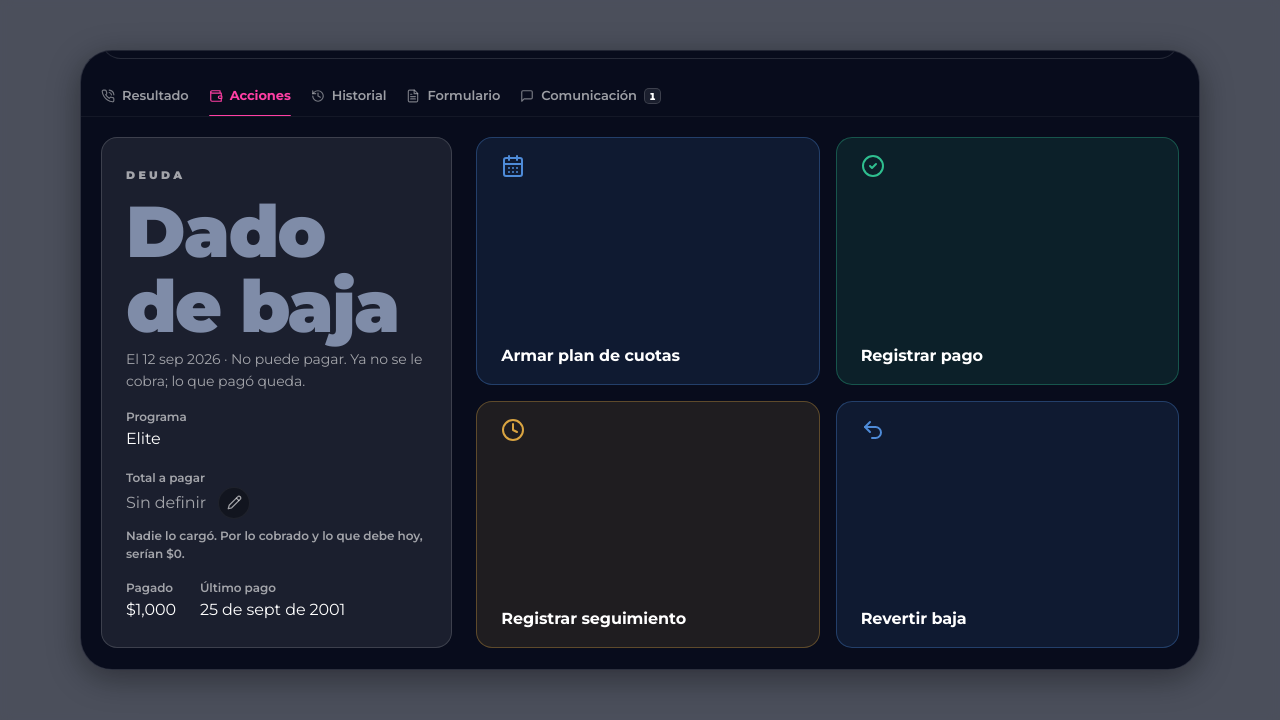
Test case: revertir la baja desde Acciones › pega en su ruta y avisa que vuelve a deber
This screenshot has width=1280, height=720.
(page scrolled)
expect the tab "Acciones" is shown: met, box 209,75 -> 291,116
Step 1. Click the button "Revertir baja" → click(914, 619), box 836,401 -> 1179,648
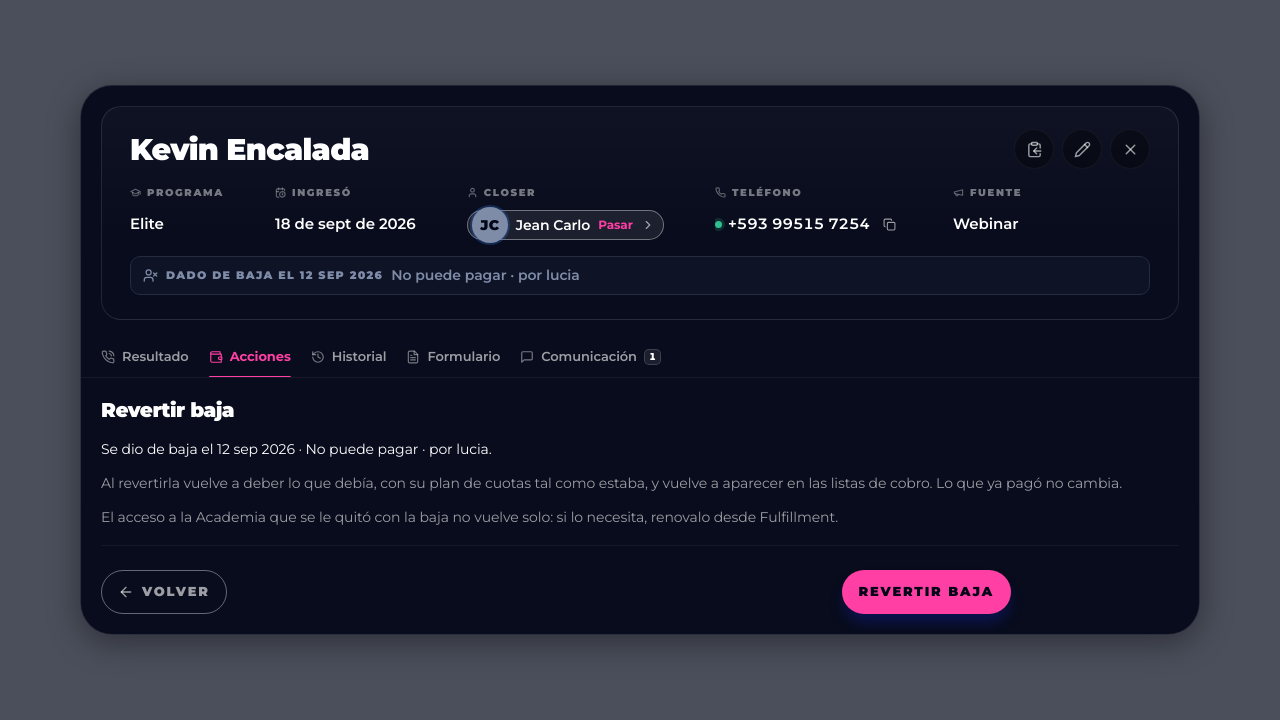
Step 2. Click the button "Revertir baja" → click(926, 592), box 842,570 -> 1011,614
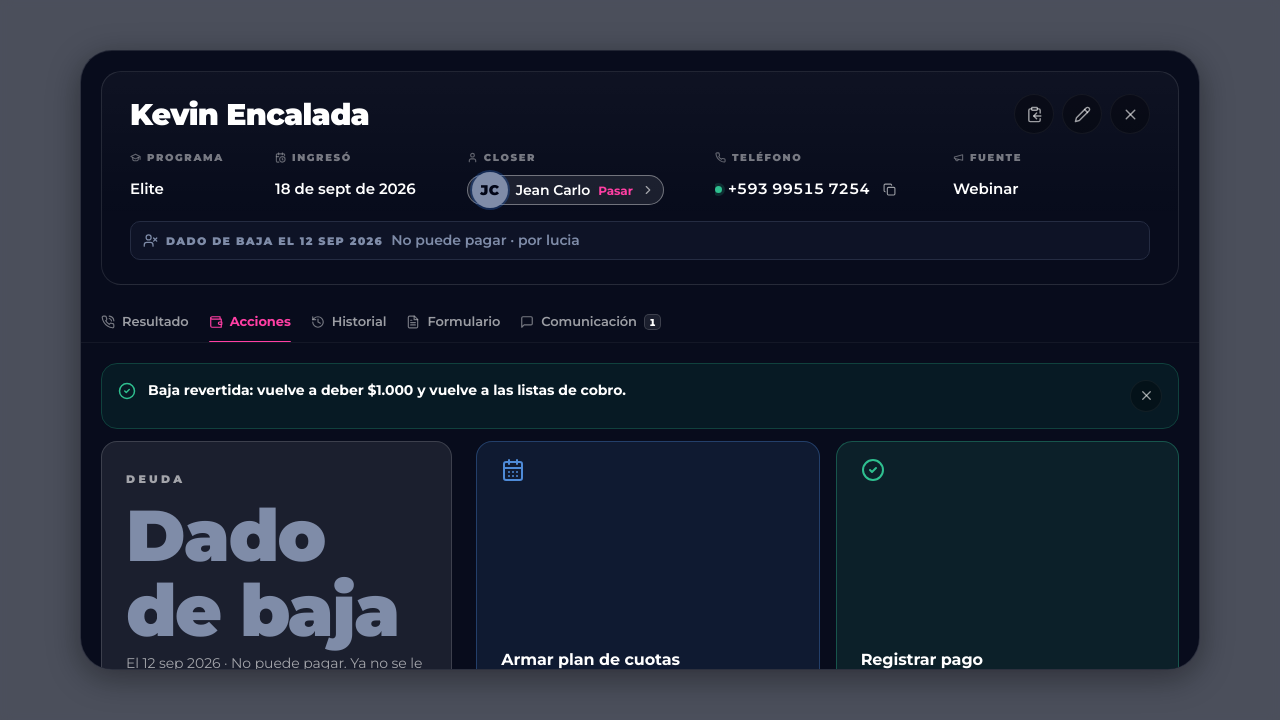
expect the text "Baja revertida: vuelve a deber $1.000" is shown: met, box 148,381 -> 626,399
